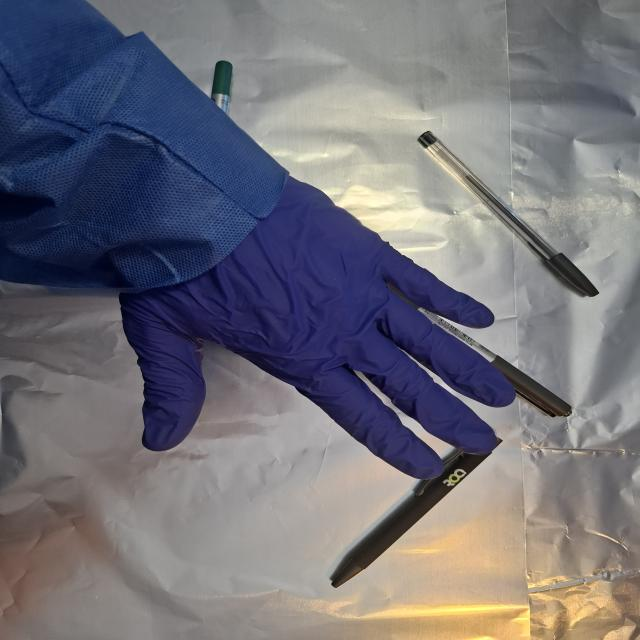glove_on: (114, 173, 521, 482)
